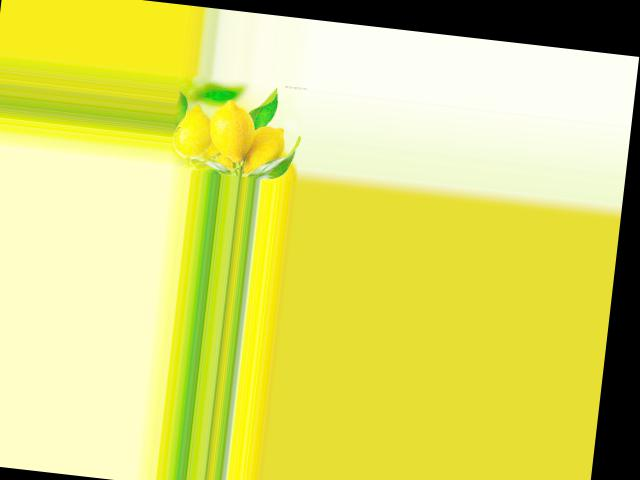lemon: (174, 100, 214, 163)
